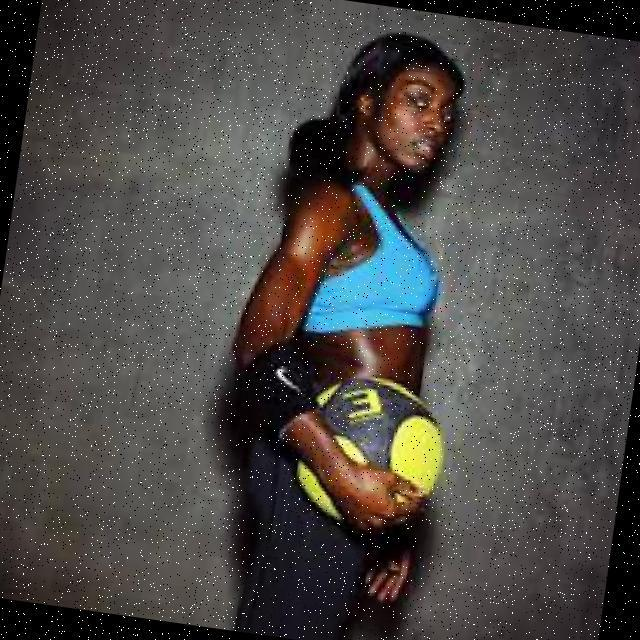Nike: (268, 362, 305, 394)
